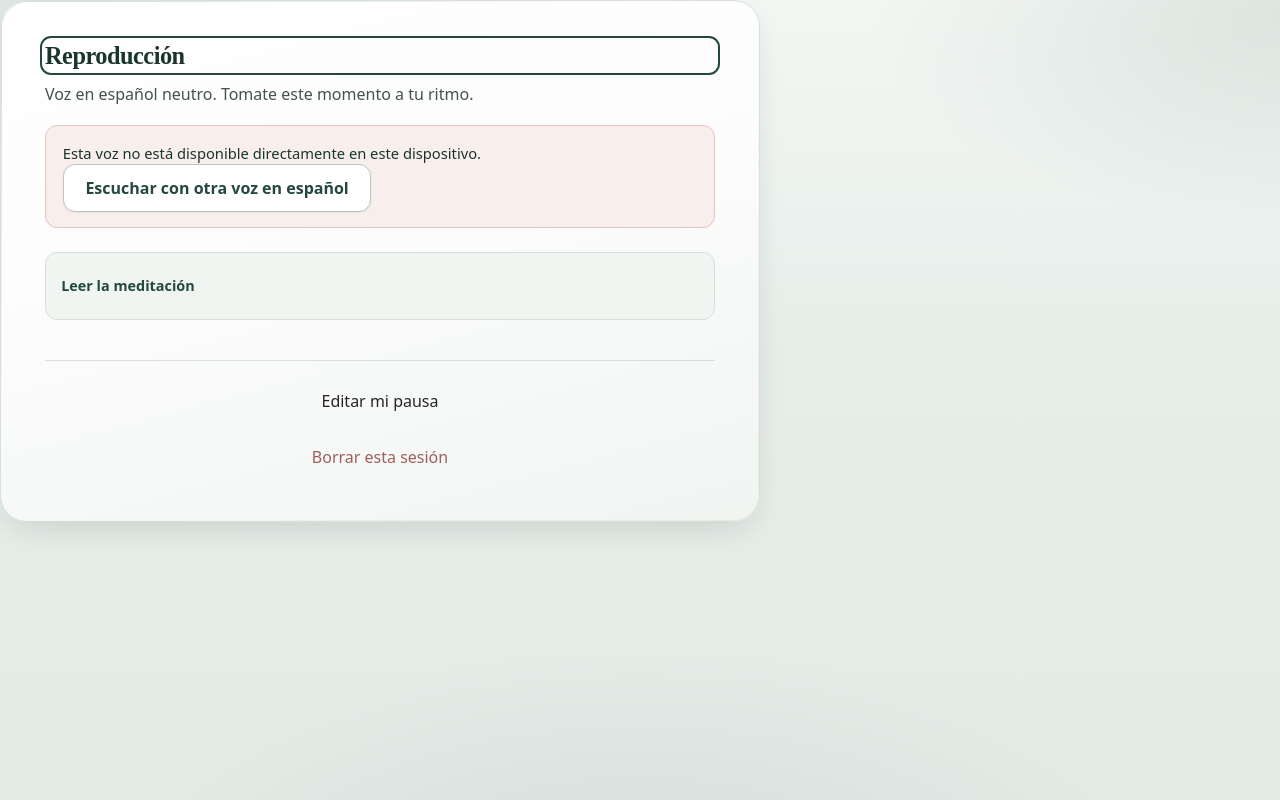
PlaybackStep — voz sencilla y consentimiento › shows a clear notice when the device voice fails without skipping the phrase
The width and height of the screenshot is (1280, 800).
Click the button "Escuchar con otra voz en español" at (217,188), box [63,164,371,212]
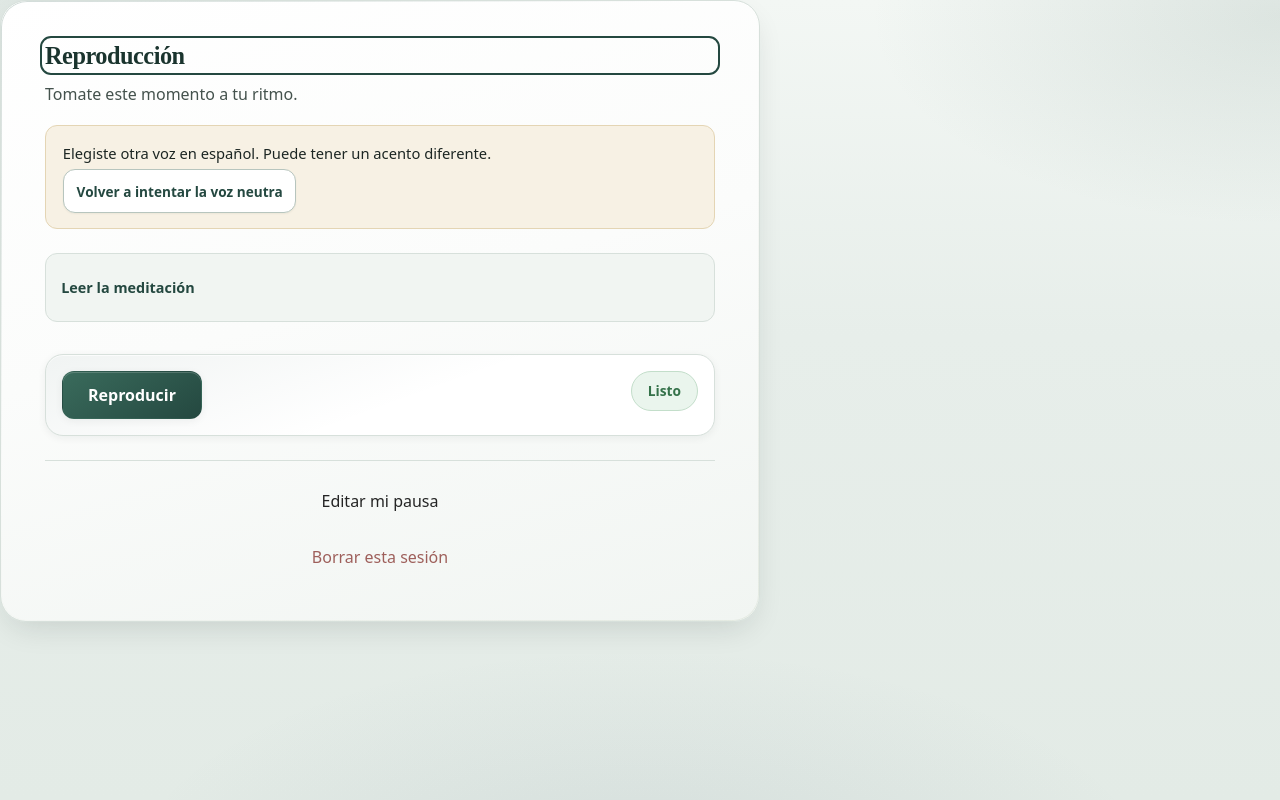
Click the button "Reproducir" at (132,395), box [62,371,202,419]
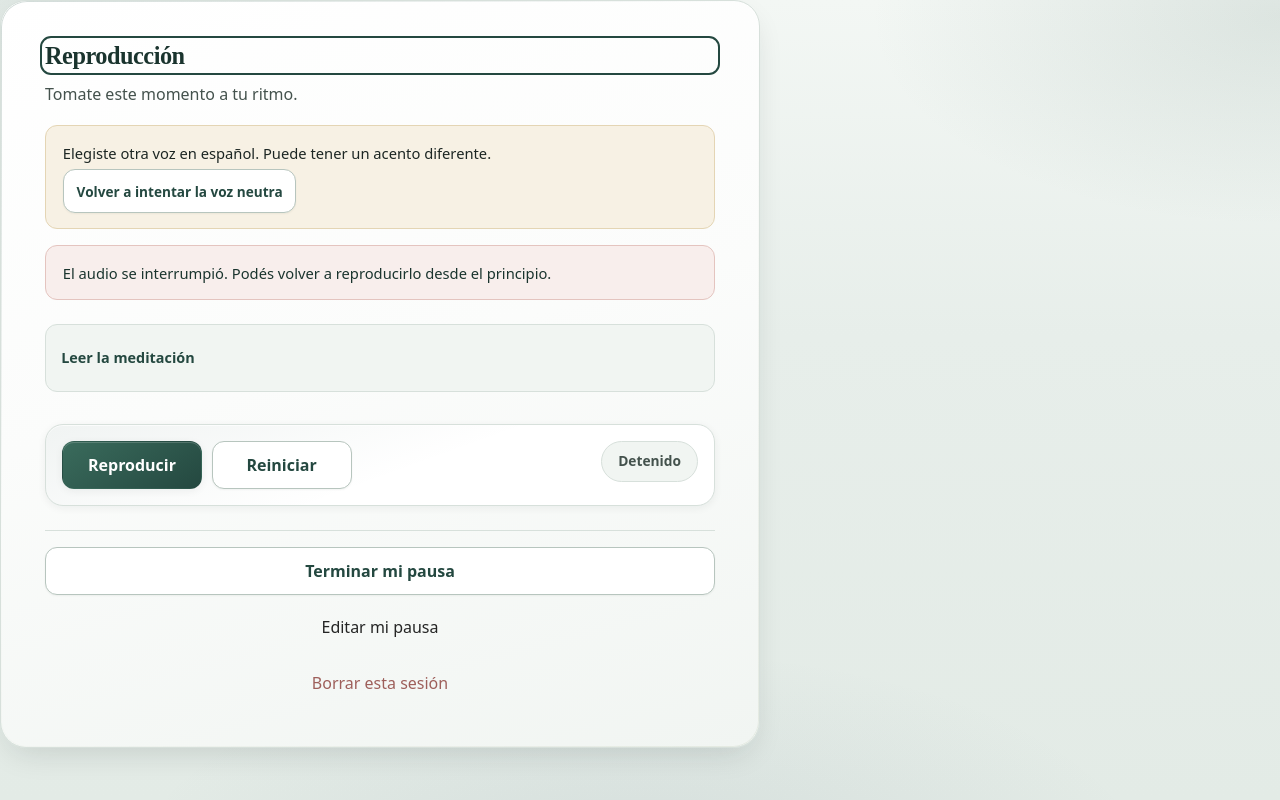
expect the button "Reproducir" is shown: met, box [62,441,202,489]
expect the message "El audio se interrumpió. Podés volver a reproducirlo desde el principio." is shown: met, box [45,245,715,300]
